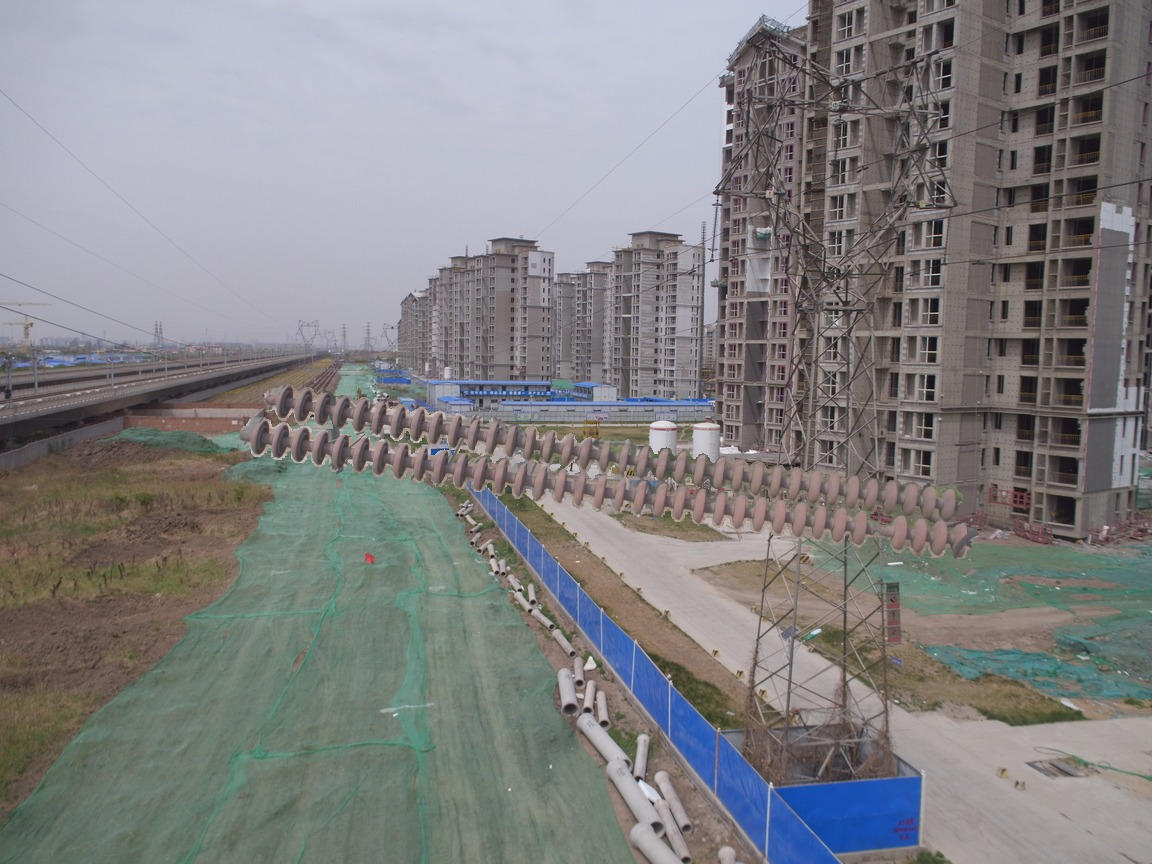defect: (847, 507, 916, 554)
